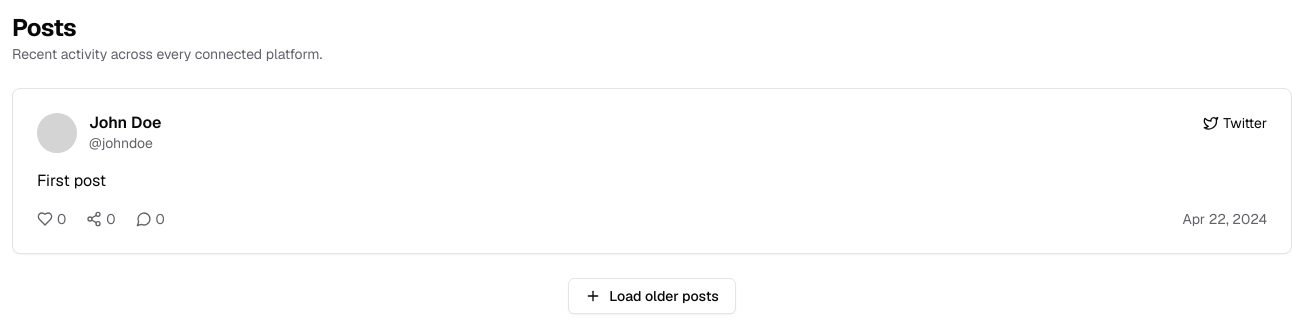
PostFeed › counts every like when clicked rapidly
Click the button named "likes". click: (52, 219)
box: [37, 209, 66, 229]
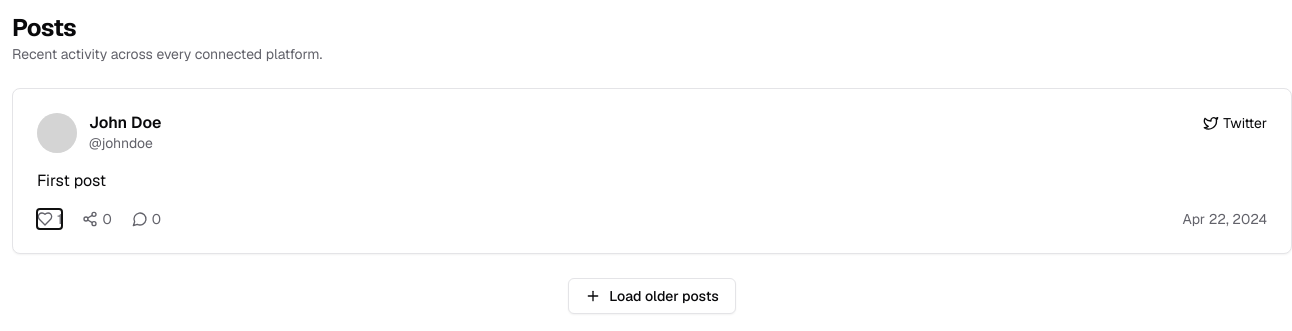
Click the button named "likes". click: (50, 219)
box: [37, 209, 62, 229]
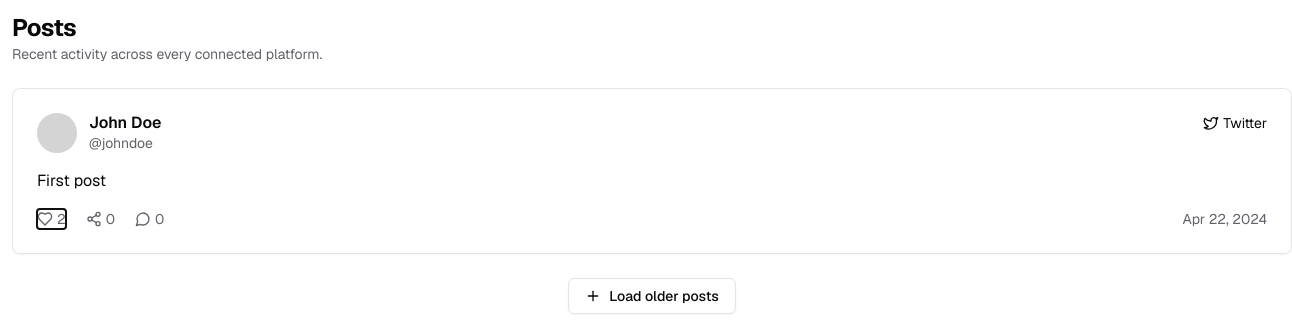
Click the button named "likes". click: (51, 219)
box: [37, 209, 66, 229]
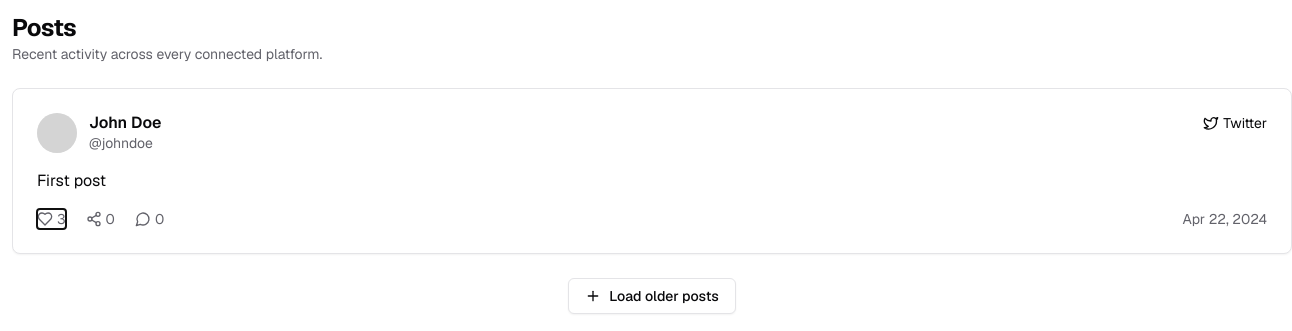
Result: the button named "likes" reads "3" at [37, 209, 66, 229]
